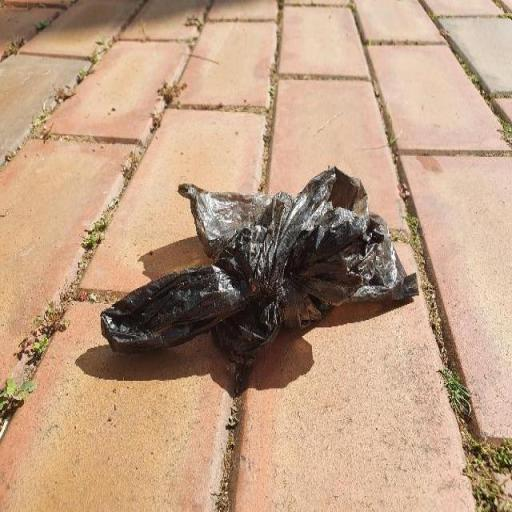plastic-bag: (99, 160, 420, 362)
